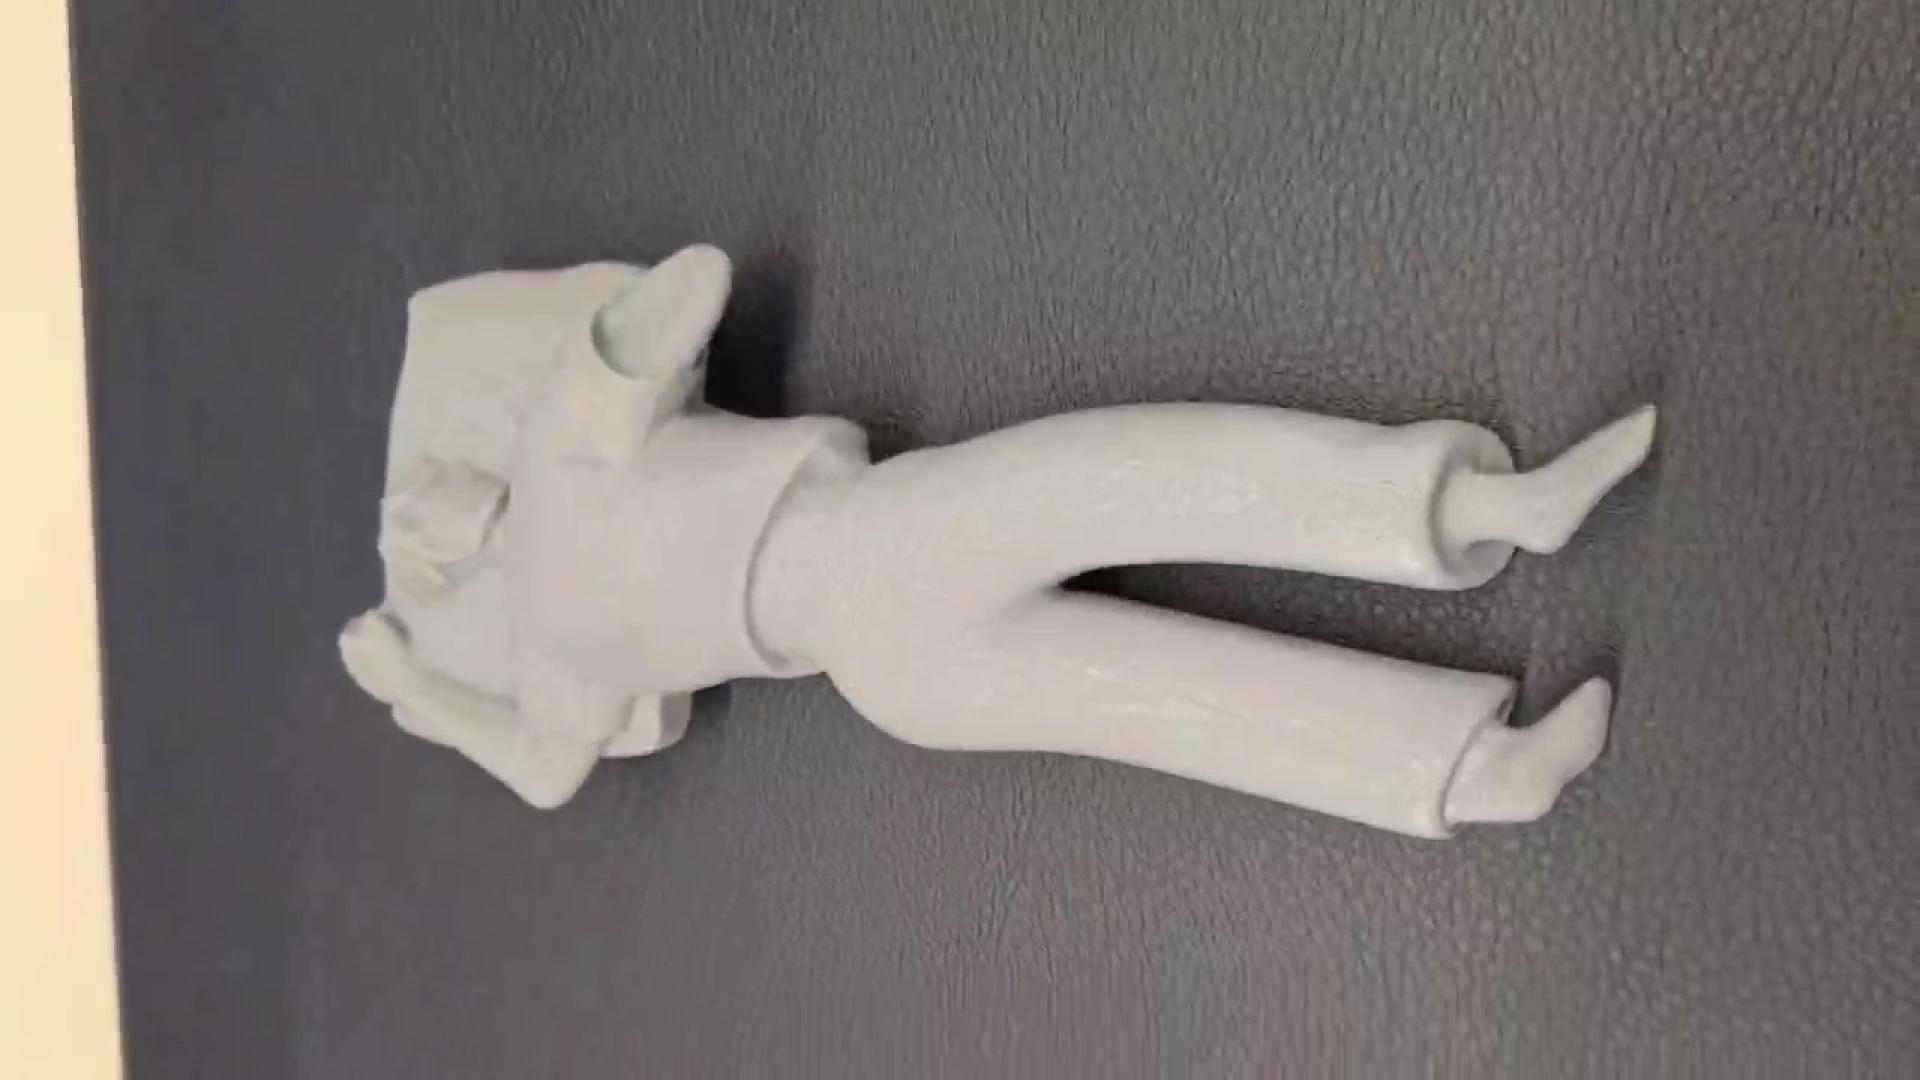Bad-style: (345, 244, 1654, 861)
